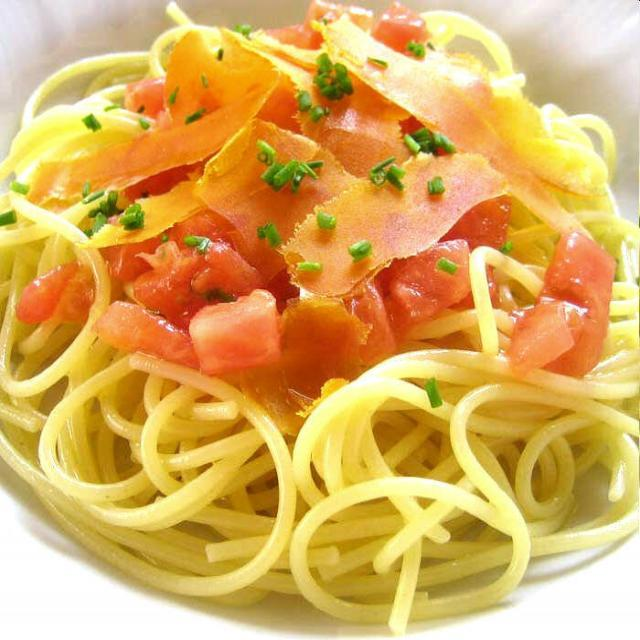Oil pasta: (16, 22, 640, 588)
